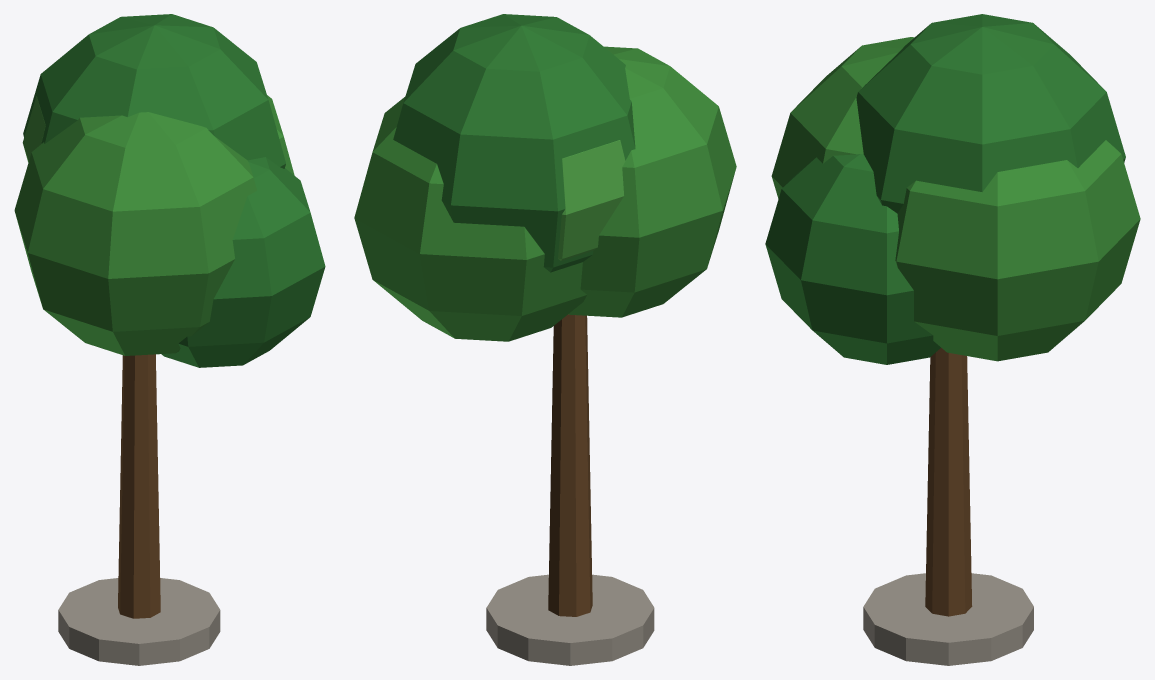
The model's file is tree.glb.
3 views of the same model, side by side, from view 1: azimuth 30°, elevation 25°; view 2: azimuth 150°, elevation 25°; view 3: azimuth 270°, elevation 25° (orthographic). The views are drawn at different scales.
Parts seen in each view (by area): view 1: tree; view 2: tree; view 3: tree.
Boxes of the visible parts, bbox=[...] form: tree: bbox=[14, 14, 325, 665]; tree: bbox=[354, 14, 736, 665]; tree: bbox=[765, 14, 1140, 665].
Bounding box in the file's own units: 2.15 × 4 × 2.2.
